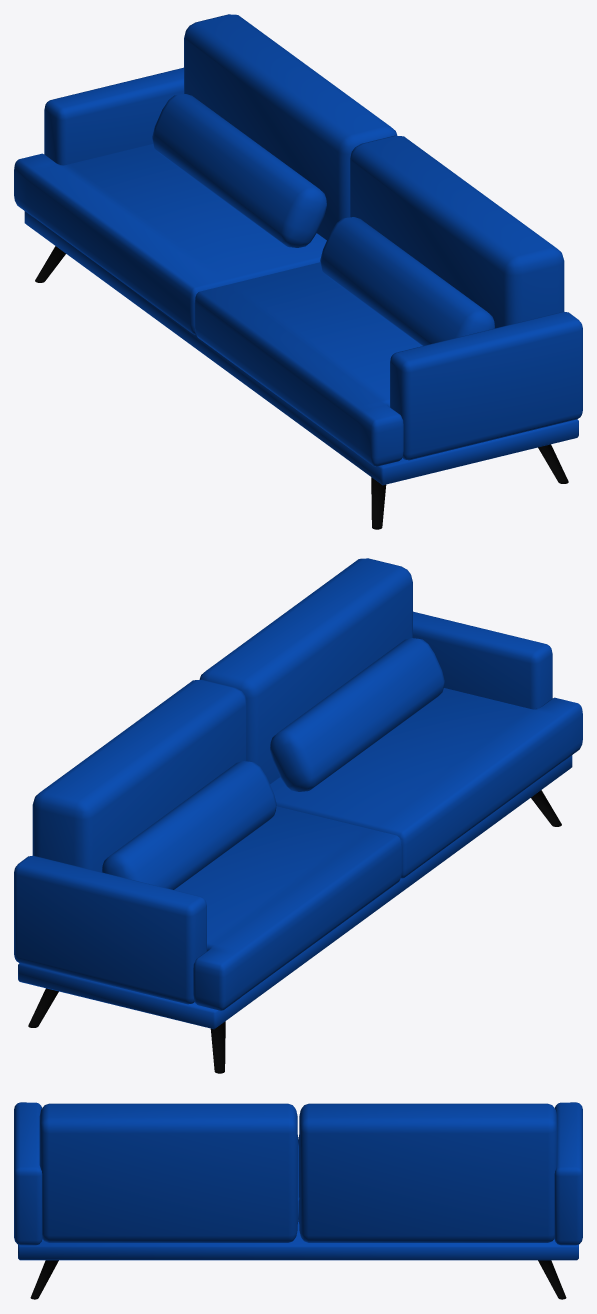
File: sofa.glb
The picture shows the model from 3 angles, top to bottom: view 1: azimuth 30°, elevation 25°; view 2: azimuth 150°, elevation 25°; view 3: azimuth 270°, elevation 25°; orthographic projection. The views are drawn at different scales.
Parts seen in each view (by area): view 1: Sofa; view 2: Sofa; view 3: Sofa.
Boxes of the visible parts, box(x1,y1,x2,y2) form: Sofa: box(14, 14, 582, 529); Sofa: box(14, 558, 582, 1073); Sofa: box(14, 1102, 582, 1299).
Bounding box in the file's own units: 1.51 × 1.55 × 4.48.
